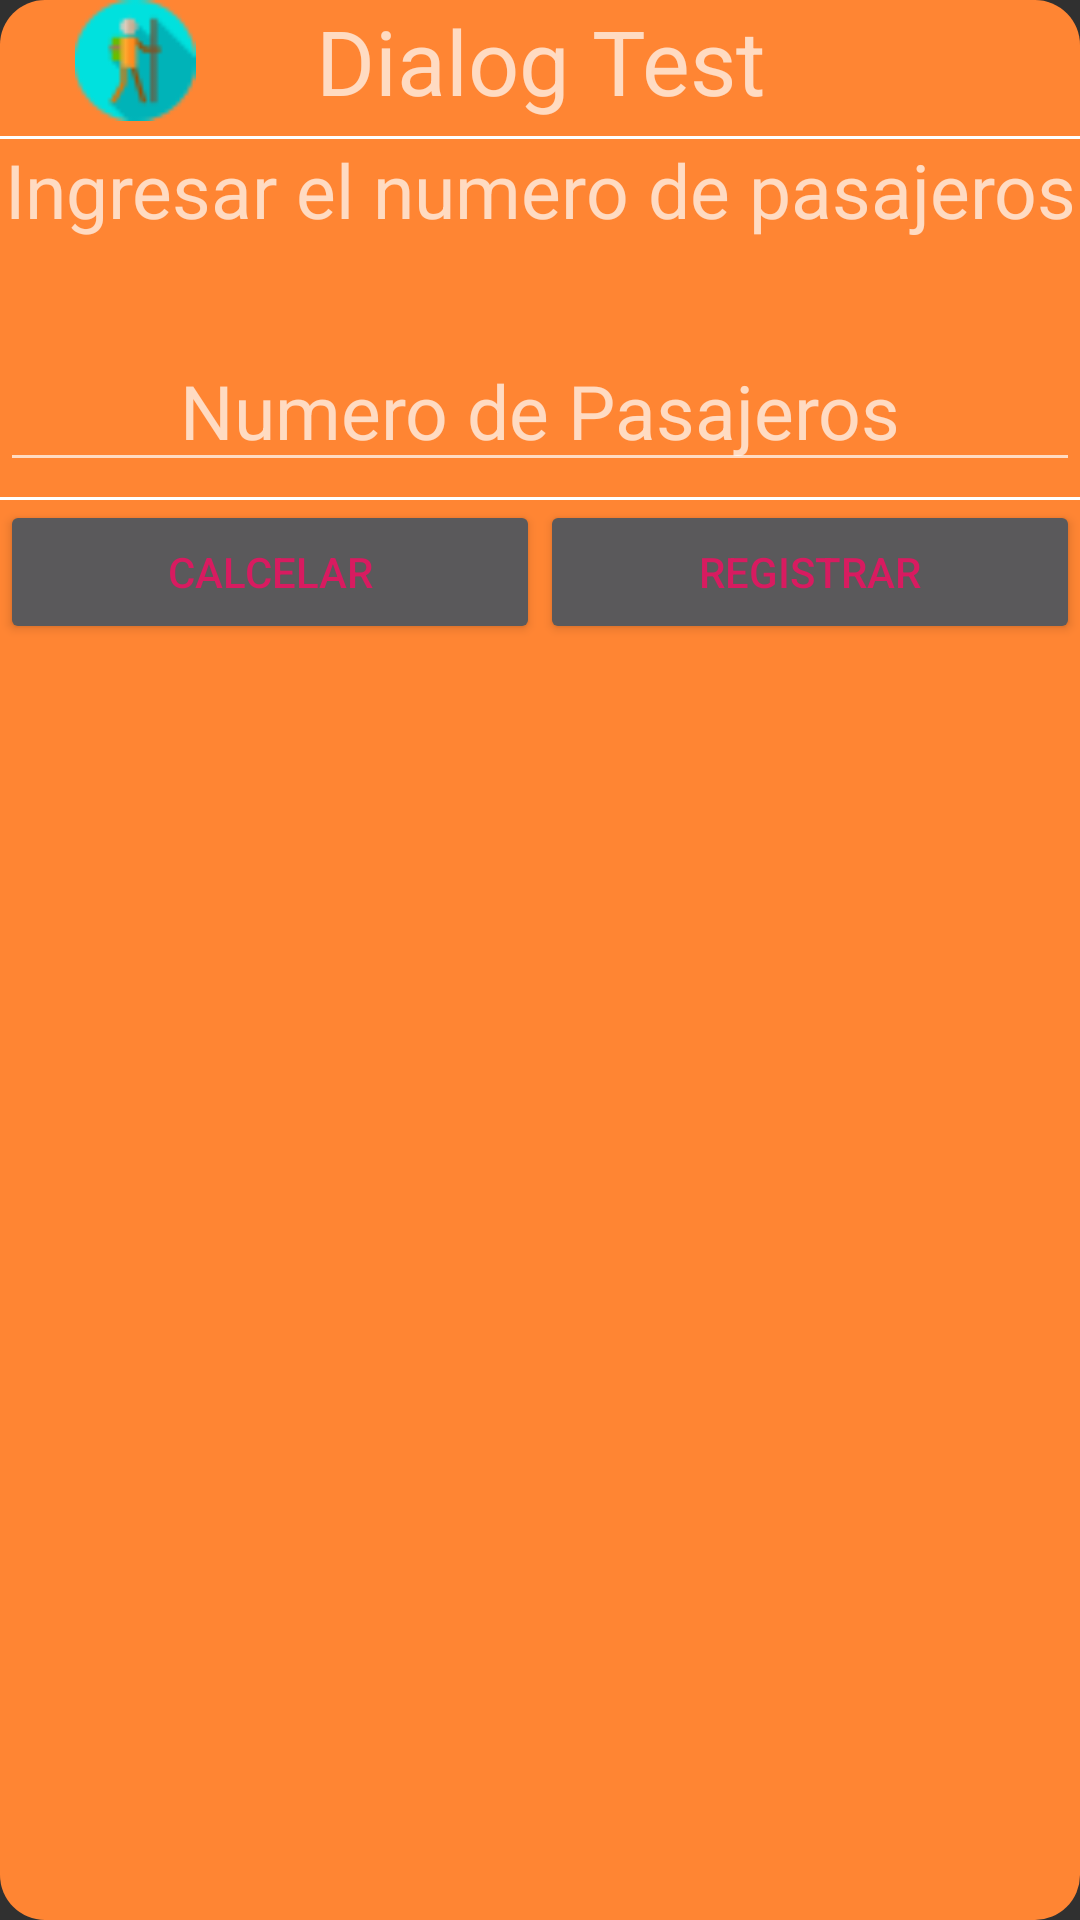

Icon bounding boxes for this 1080px x 1920px phone screenshot, format (x1, y1, x2, y2):
hiker: (0, 0, 196, 121)
